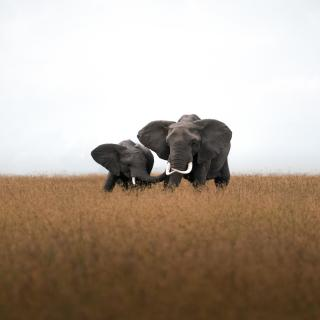Elephant: (136, 111, 242, 192), (89, 136, 172, 193)
